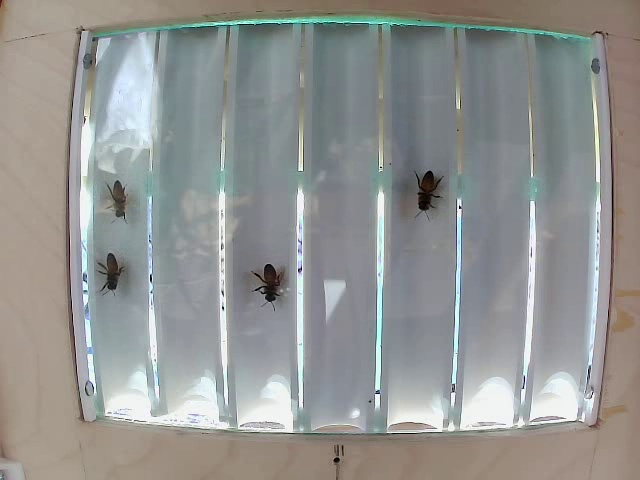bee: (404, 168, 452, 224), (94, 242, 135, 304), (245, 249, 283, 311), (99, 168, 141, 223)
